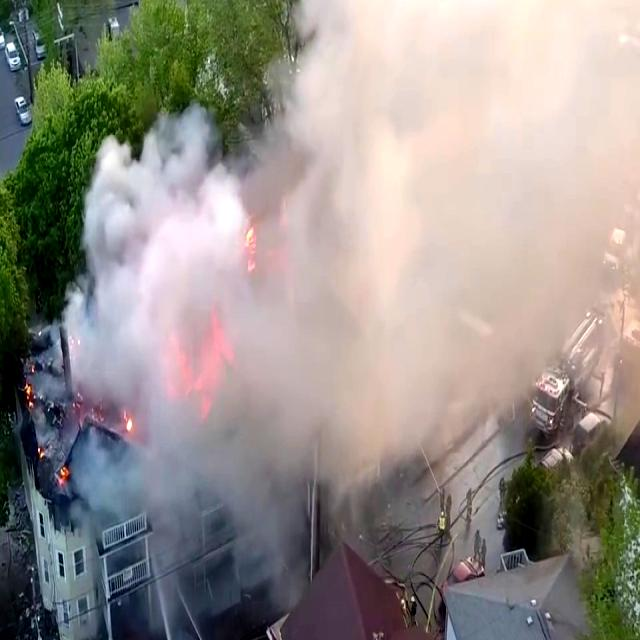smoke: (300, 107, 552, 411)
